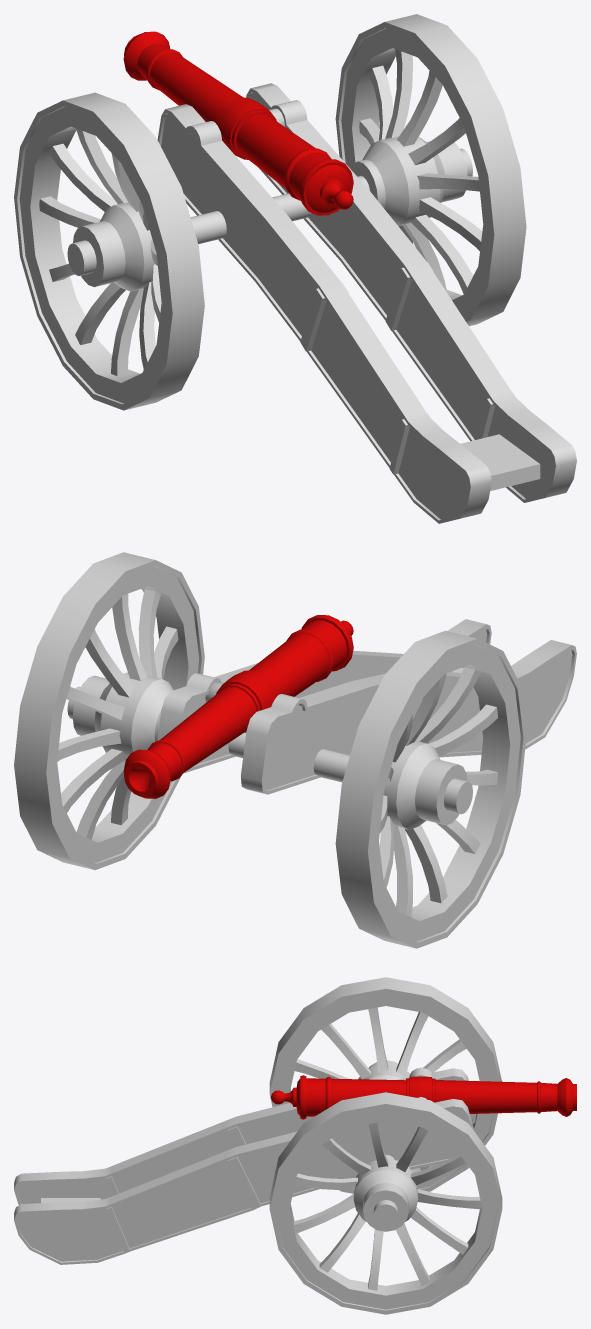
The model's file is 8PounderCannon.fbx.
3 renders of one model, top to bottom at view 1: azimuth 30°, elevation 25°; view 2: azimuth 150°, elevation 25°; view 3: azimuth 270°, elevation 25°, orthographic. The views are drawn at different scales.
Parts seen in each view (by area): view 1: Cube.009; view 2: Cube.009; view 3: Cube.009.
Boxes of the visible parts, left/top/right/bottom form: Cube.009: left=14, top=14, right=576, bottom=523; Cube.009: left=14, top=552, right=576, bottom=948; Cube.009: left=14, top=977, right=576, bottom=1314.
Bounding box in the file's own units: 148 × 253 × 105.
